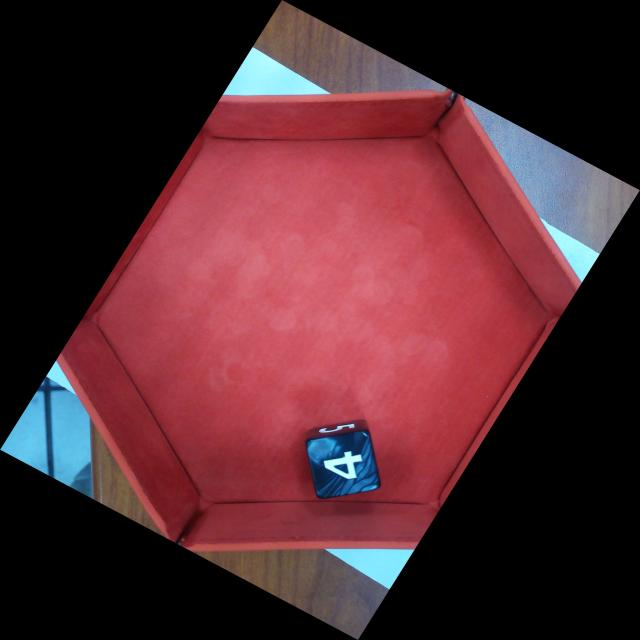dice: (314, 433, 380, 496)
